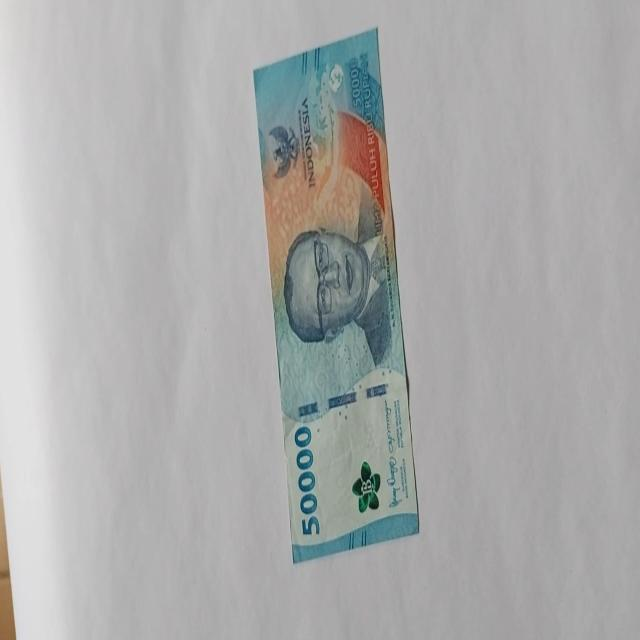lima puluh ribu rupiah: (252, 27, 420, 561)
